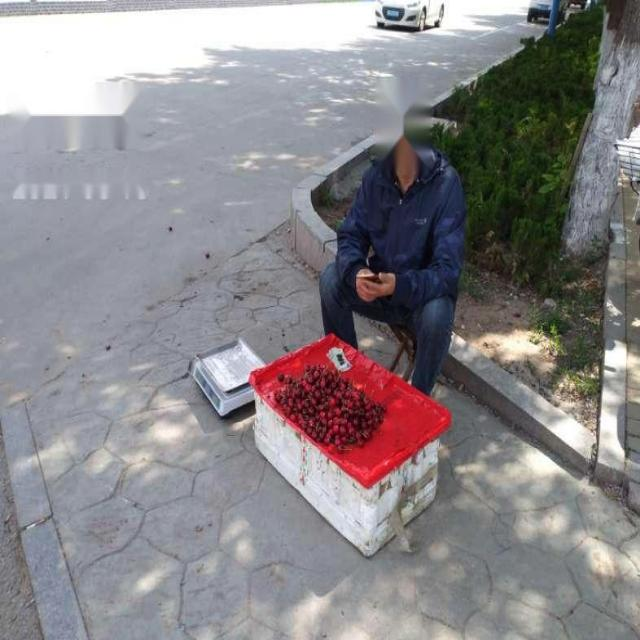fixed_stall: (183, 330, 452, 555)
